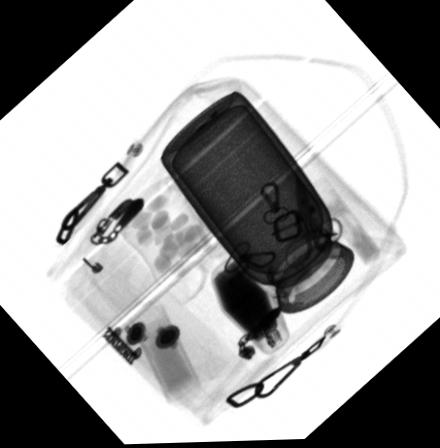Powerbank: (209, 258, 290, 360)
Scissors: (281, 173, 344, 272)
